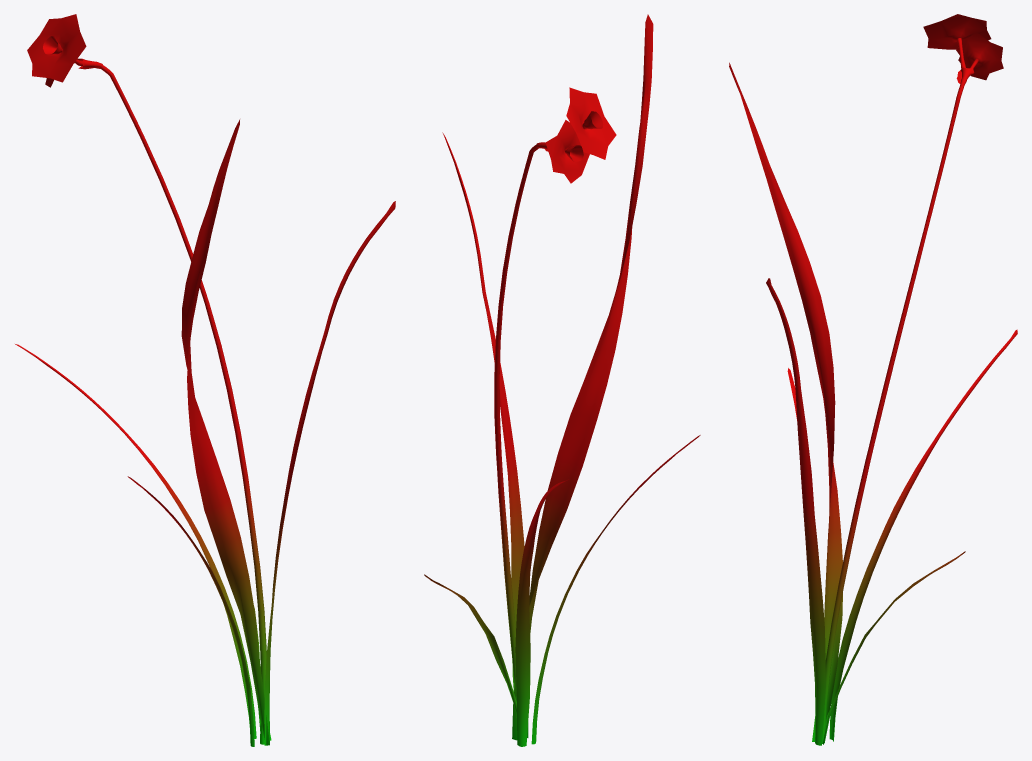
File: Rush Daffodil_LOD0_Var7_wftgfjaia.fbx
3 renders of one model, left to right at view 1: azimuth 30°, elevation 25°; view 2: azimuth 150°, elevation 25°; view 3: azimuth 270°, elevation 25°, orthographic. The views are drawn at different scales.
Visible parts, largest first — view 1: _64t8_var7_LOD0; view 2: _64t8_var7_LOD0; view 3: _64t8_var7_LOD0.
Boxes of the visible parts, left/top/right/bottom form: _64t8_var7_LOD0: left=15, top=14, right=395, bottom=746; _64t8_var7_LOD0: left=424, top=14, right=700, bottom=746; _64t8_var7_LOD0: left=729, top=14, right=1017, bottom=745.
Bounding box in the file's own units: 13.62 × 35.32 × 13.69.
